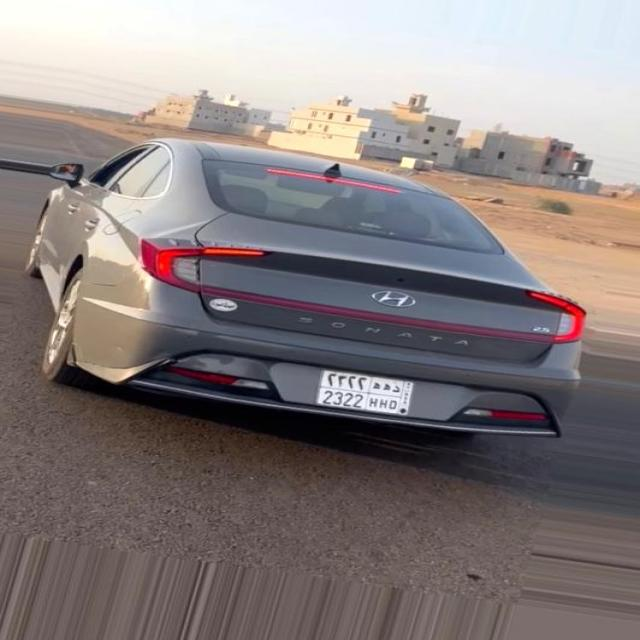Car-plate: (301, 349, 433, 422)
